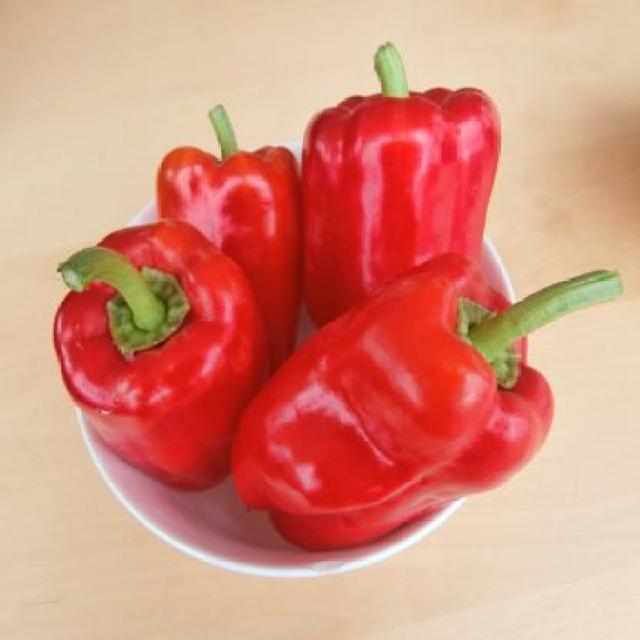Bell pepper: (230, 256, 622, 550), (304, 41, 504, 324), (52, 245, 272, 490), (156, 109, 304, 368)
